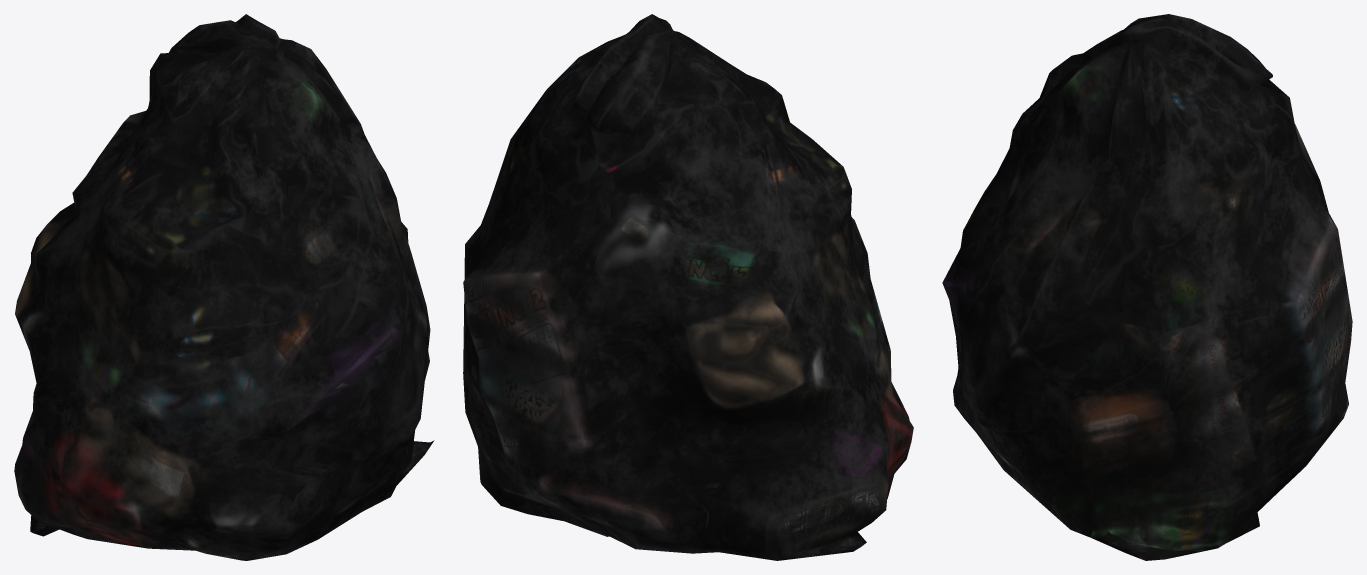
File: bolsa_de_basura.glb
3 views of the same model, side by side, from view 1: azimuth 30°, elevation 25°; view 2: azimuth 150°, elevation 25°; view 3: azimuth 270°, elevation 25° (orthographic).
Parts seen in each view (by area): view 1: trashbag; view 2: trashbag; view 3: trashbag.
Boxes of the visible parts, <box> form: trashbag: <box>14,14,434,560</box>; trashbag: <box>463,14,913,560</box>; trashbag: <box>942,14,1352,560</box>.
Size of the model in its own units: 0.5215 by 0.5738 by 0.4557.
Materials: 1 (1 with a texture image).
